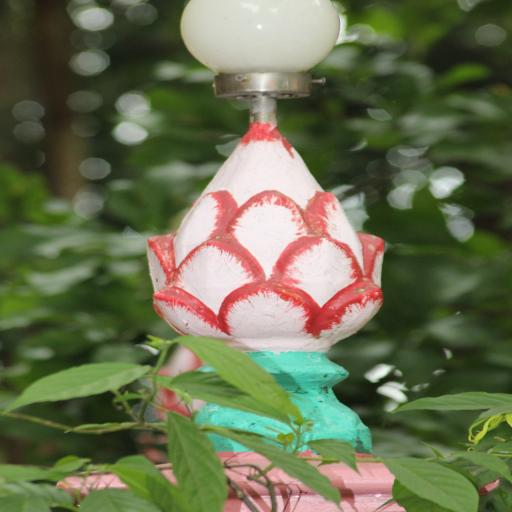hoa: (136, 133, 389, 340)
